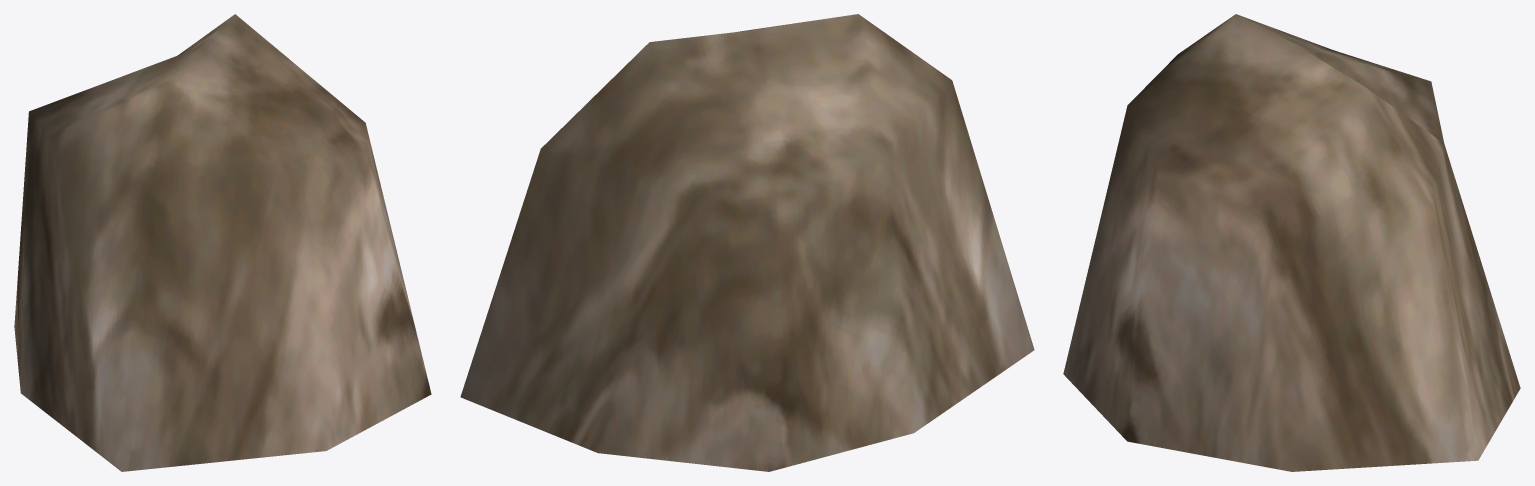
File: OVERHILL_A_01_ROCK59.fbx
3 views of the same model, side by side, from view 1: azimuth 30°, elevation 25°; view 2: azimuth 150°, elevation 25°; view 3: azimuth 270°, elevation 25° (orthographic). The views are drawn at different scales.
Visible parts, largest first — view 1: OVERHILL_A_01_ROCK59; view 2: OVERHILL_A_01_ROCK59; view 3: OVERHILL_A_01_ROCK59.
Boxes of the visible parts, box(x1,y1,x2,y2) form: OVERHILL_A_01_ROCK59: box(14, 14, 431, 471); OVERHILL_A_01_ROCK59: box(460, 14, 1034, 471); OVERHILL_A_01_ROCK59: box(1063, 14, 1520, 471).
Size of the model in its own units: 5185 by 4289 by 5450.
Materials: 1 (1 with a texture image).
